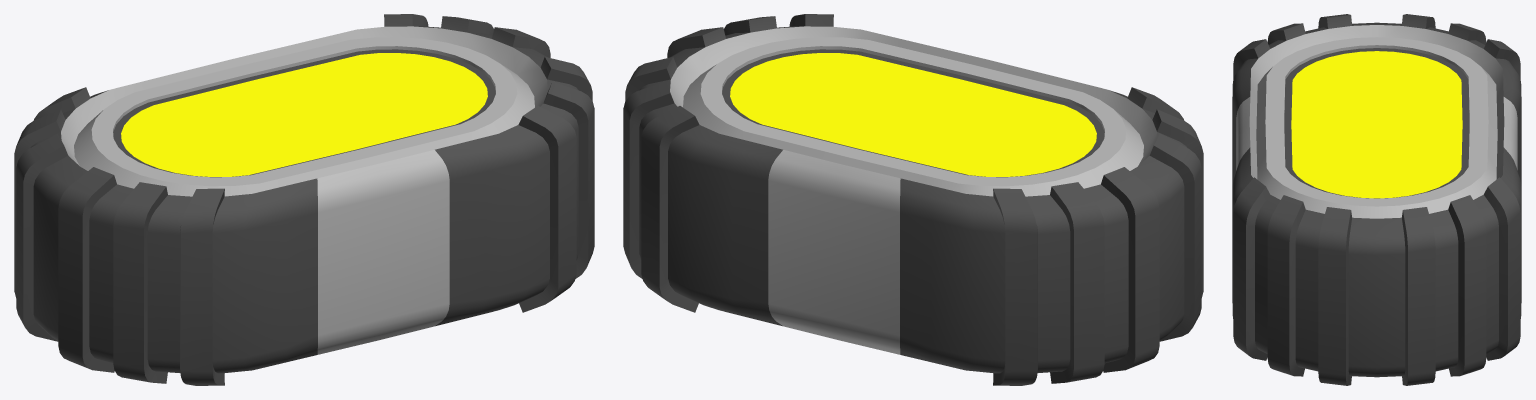
Rendered from AmmoClip1.fbx.
3 views of the same model, side by side, from view 1: azimuth 30°, elevation 25°; view 2: azimuth 150°, elevation 25°; view 3: azimuth 270°, elevation 25° (orthographic). The views are drawn at different scales.
Visible parts, largest first — view 1: AmmoClip_LOD0; view 2: AmmoClip_LOD0; view 3: AmmoClip_LOD0.
Boxes of the visible parts, bbox=[...] form: AmmoClip_LOD0: bbox=[14, 14, 594, 385]; AmmoClip_LOD0: bbox=[623, 14, 1203, 385]; AmmoClip_LOD0: bbox=[1232, 14, 1521, 385].
Size of what is drawn, in the model's own units: 547 by 196 by 294.
